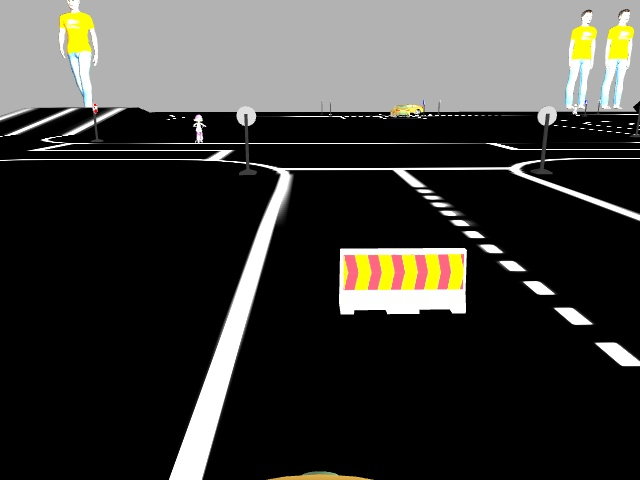ClosedRoadStand: (339, 248, 464, 310)
